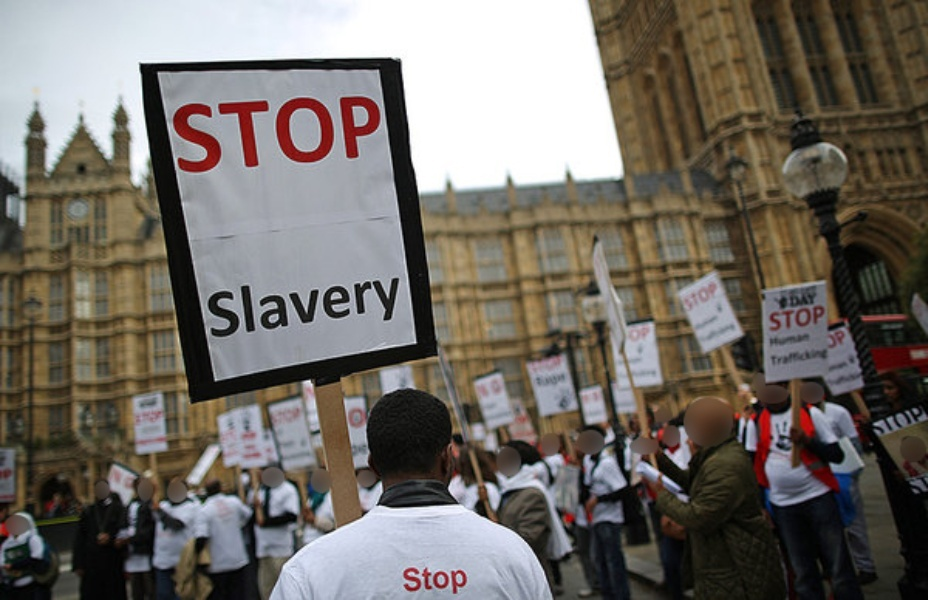text: (177, 93, 192, 175), (193, 93, 208, 175), (209, 93, 224, 175), (225, 93, 240, 175), (241, 93, 256, 175), (257, 93, 272, 175), (273, 93, 288, 175), (289, 93, 304, 175), (305, 93, 320, 175), (321, 93, 336, 175), (337, 93, 352, 175), (353, 93, 368, 175), (369, 93, 384, 175), (209, 270, 224, 339), (225, 270, 240, 339), (241, 270, 256, 339), (257, 270, 272, 339), (273, 270, 288, 339), (289, 270, 304, 339), (305, 270, 320, 339), (321, 270, 336, 339), (337, 270, 352, 339), (353, 270, 368, 339), (369, 270, 384, 339), (385, 270, 400, 339), (169, 93, 176, 175), (689, 310, 704, 348), (705, 310, 720, 348), (721, 310, 736, 348), (689, 279, 704, 316), (769, 331, 784, 367), (785, 331, 800, 367), (801, 331, 816, 367), (881, 403, 896, 435), (897, 403, 912, 435), (401, 565, 416, 596), (417, 565, 432, 596), (433, 565, 448, 596), (449, 565, 464, 596), (705, 279, 717, 316), (785, 304, 800, 333), (801, 304, 816, 333), (867, 403, 880, 435), (273, 404, 288, 430), (289, 404, 304, 430), (913, 403, 925, 435), (771, 304, 784, 333), (679, 279, 688, 316), (817, 331, 826, 367), (817, 304, 828, 333), (129, 406, 144, 427), (145, 406, 160, 427), (545, 372, 560, 389), (737, 310, 743, 348), (801, 293, 816, 308), (533, 372, 544, 389), (788, 293, 800, 308), (385, 93, 387, 175), (206, 270, 208, 339), (401, 270, 403, 339), (465, 565, 469, 596), (561, 372, 568, 389), (268, 404, 272, 430), (161, 406, 164, 427), (398, 565, 400, 596), (305, 404, 307, 430), (817, 293, 819, 308)
